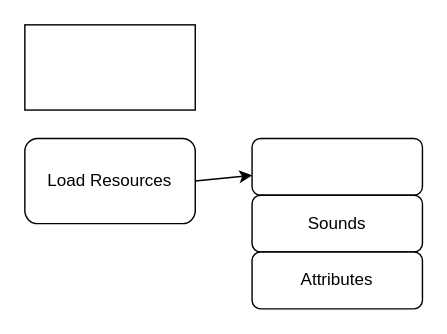
This 447x334 diagram has some shape labels left out. The shapes that lost their labels are listed below. From the top down, each one's centre as x and y in pixels, then its label:
point (109, 66): Start
point (336, 166): Textures
